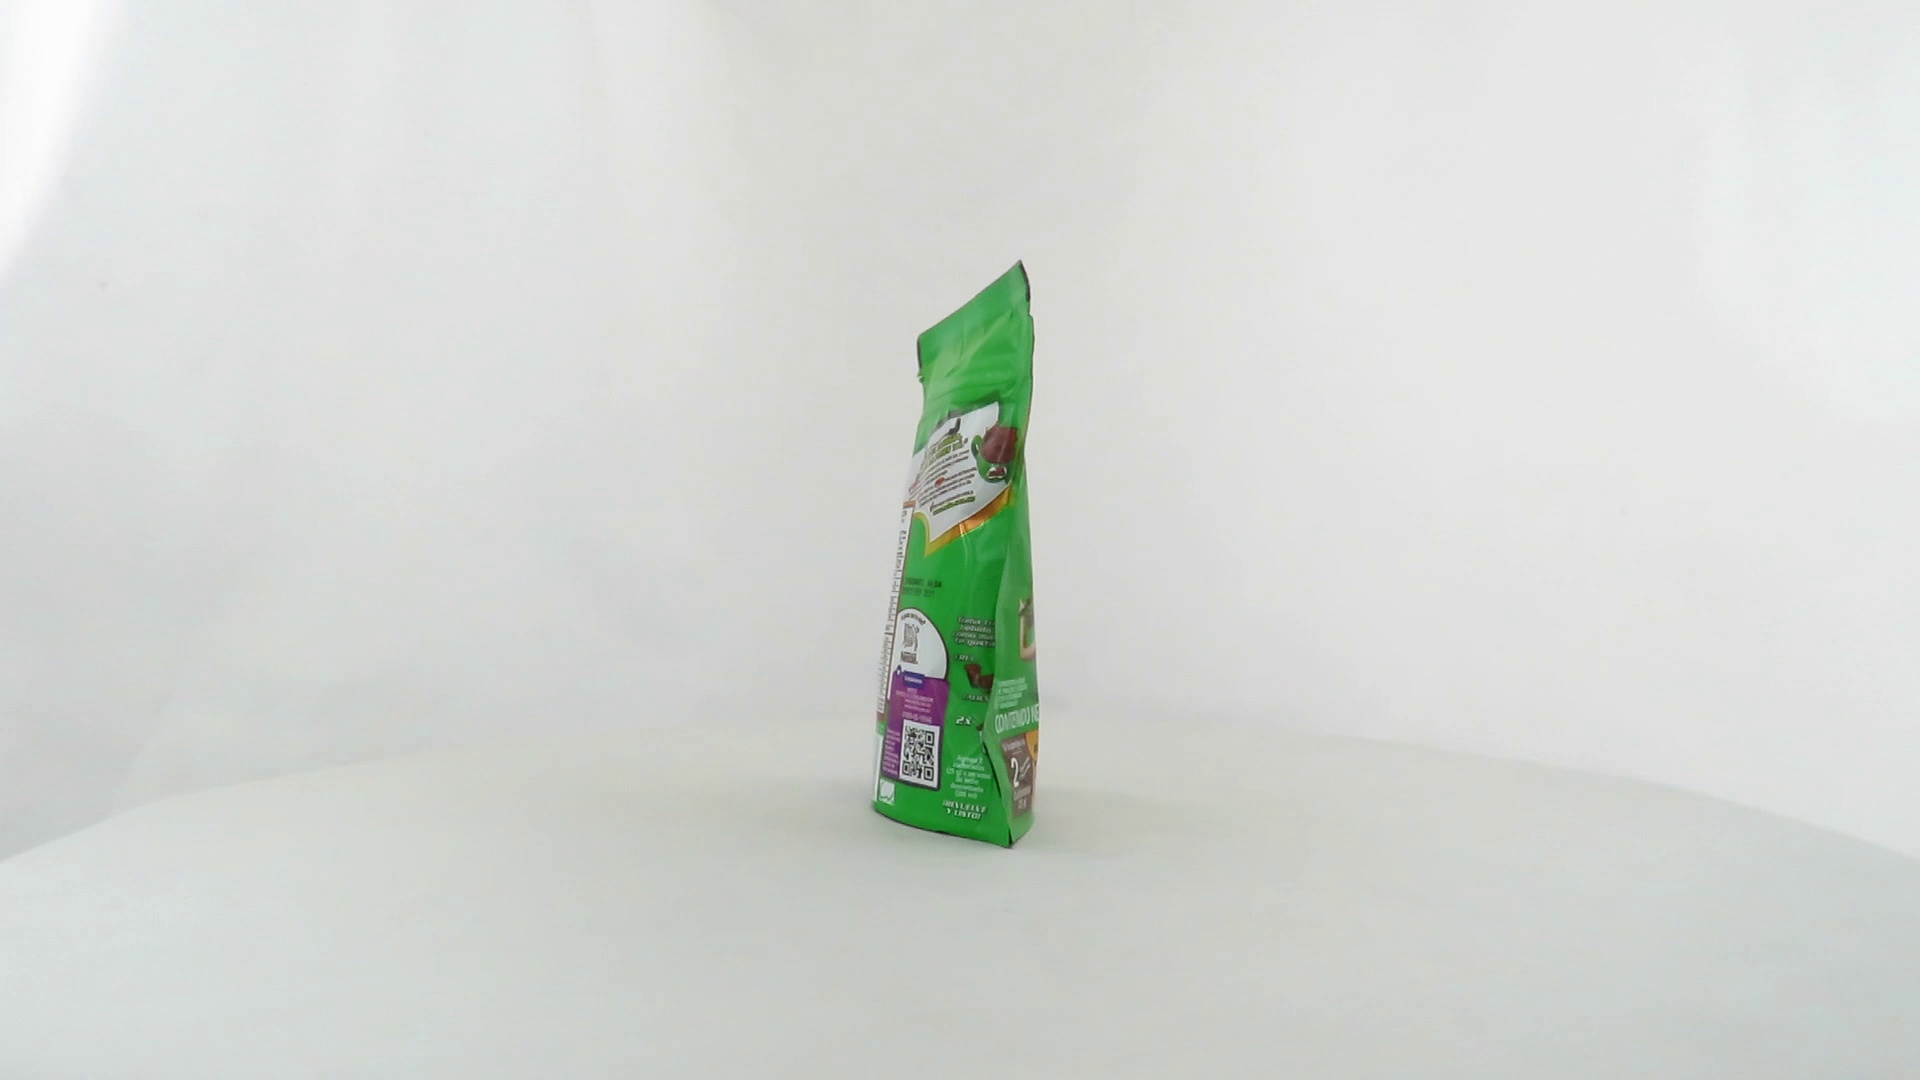COL0170203DYP10000: (865, 255, 1046, 855)
